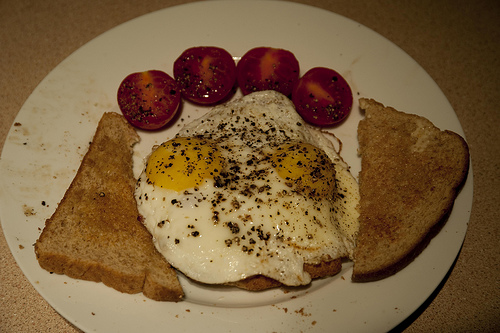egg: (130, 89, 365, 291)
